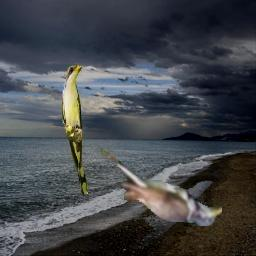Cuckoo: (97, 145, 222, 226), (62, 64, 88, 194)
